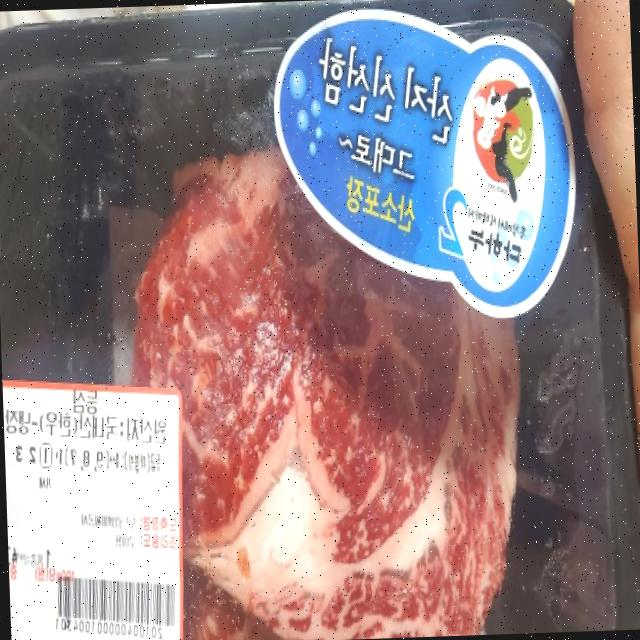meat: (99, 39, 560, 640)
